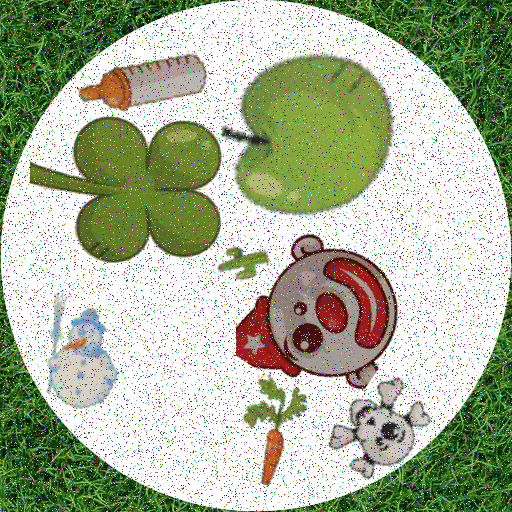apple_icon: (221, 50, 408, 237)
bottle_icon: (77, 16, 210, 149)
cactus_icon: (217, 236, 272, 291)
carrot_icon: (224, 374, 337, 487)
cloverleaf_icon: (30, 66, 242, 278)
clown_icon: (236, 230, 400, 394)
skull_icon: (321, 374, 437, 490)
snowman_icon: (14, 291, 132, 409)
